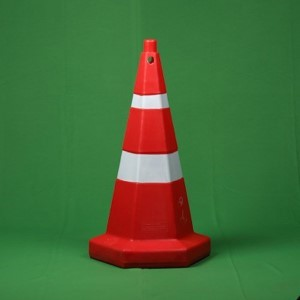traffic cone: (89, 38, 211, 268)
